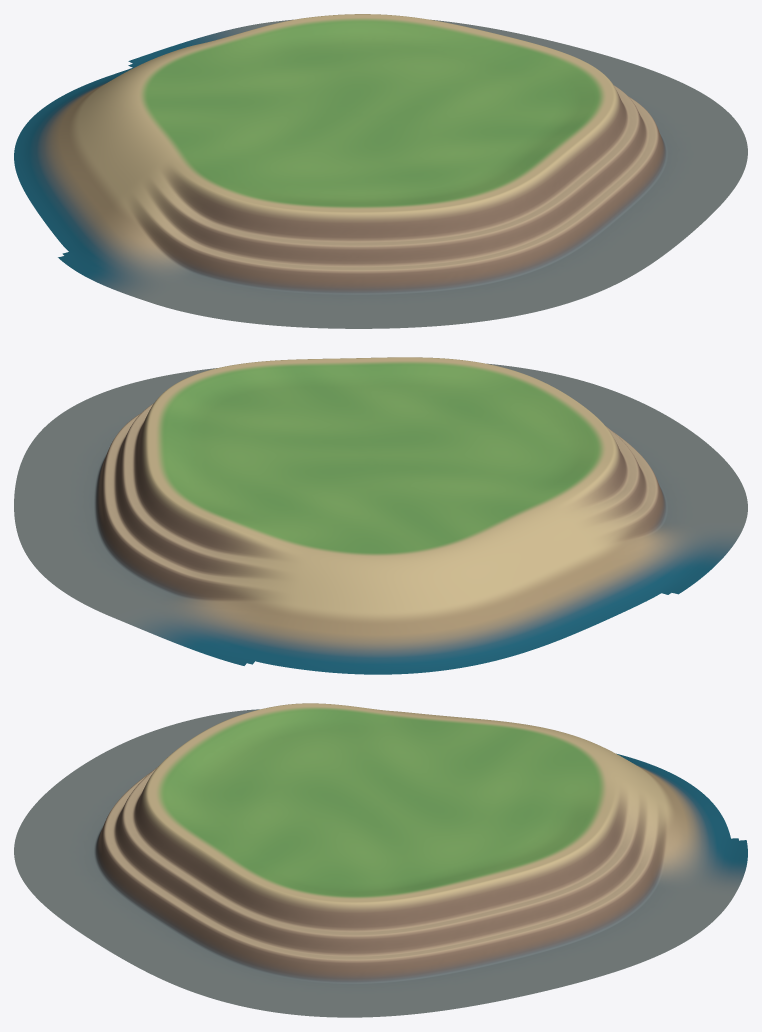
File: terrain_title.glb
3 renders of one model, top to bottom at view 1: azimuth 30°, elevation 25°; view 2: azimuth 150°, elevation 25°; view 3: azimuth 270°, elevation 25°, orthographic.
Parts seen in each view (by area): view 1: Terrain; view 2: Terrain; view 3: Terrain.
Boxes of the visible parts, x1,y1,x2,y2 form: Terrain: (14,14,747,328); Terrain: (14,357,747,674); Terrain: (14,703,747,1017).
Size of the model in its own units: 13.92 by 1.45 by 13.82.
